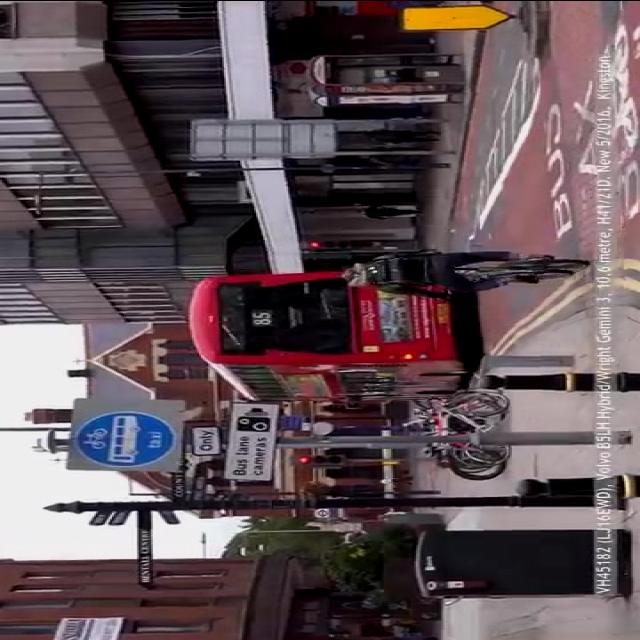bus: (211, 253, 513, 410)
